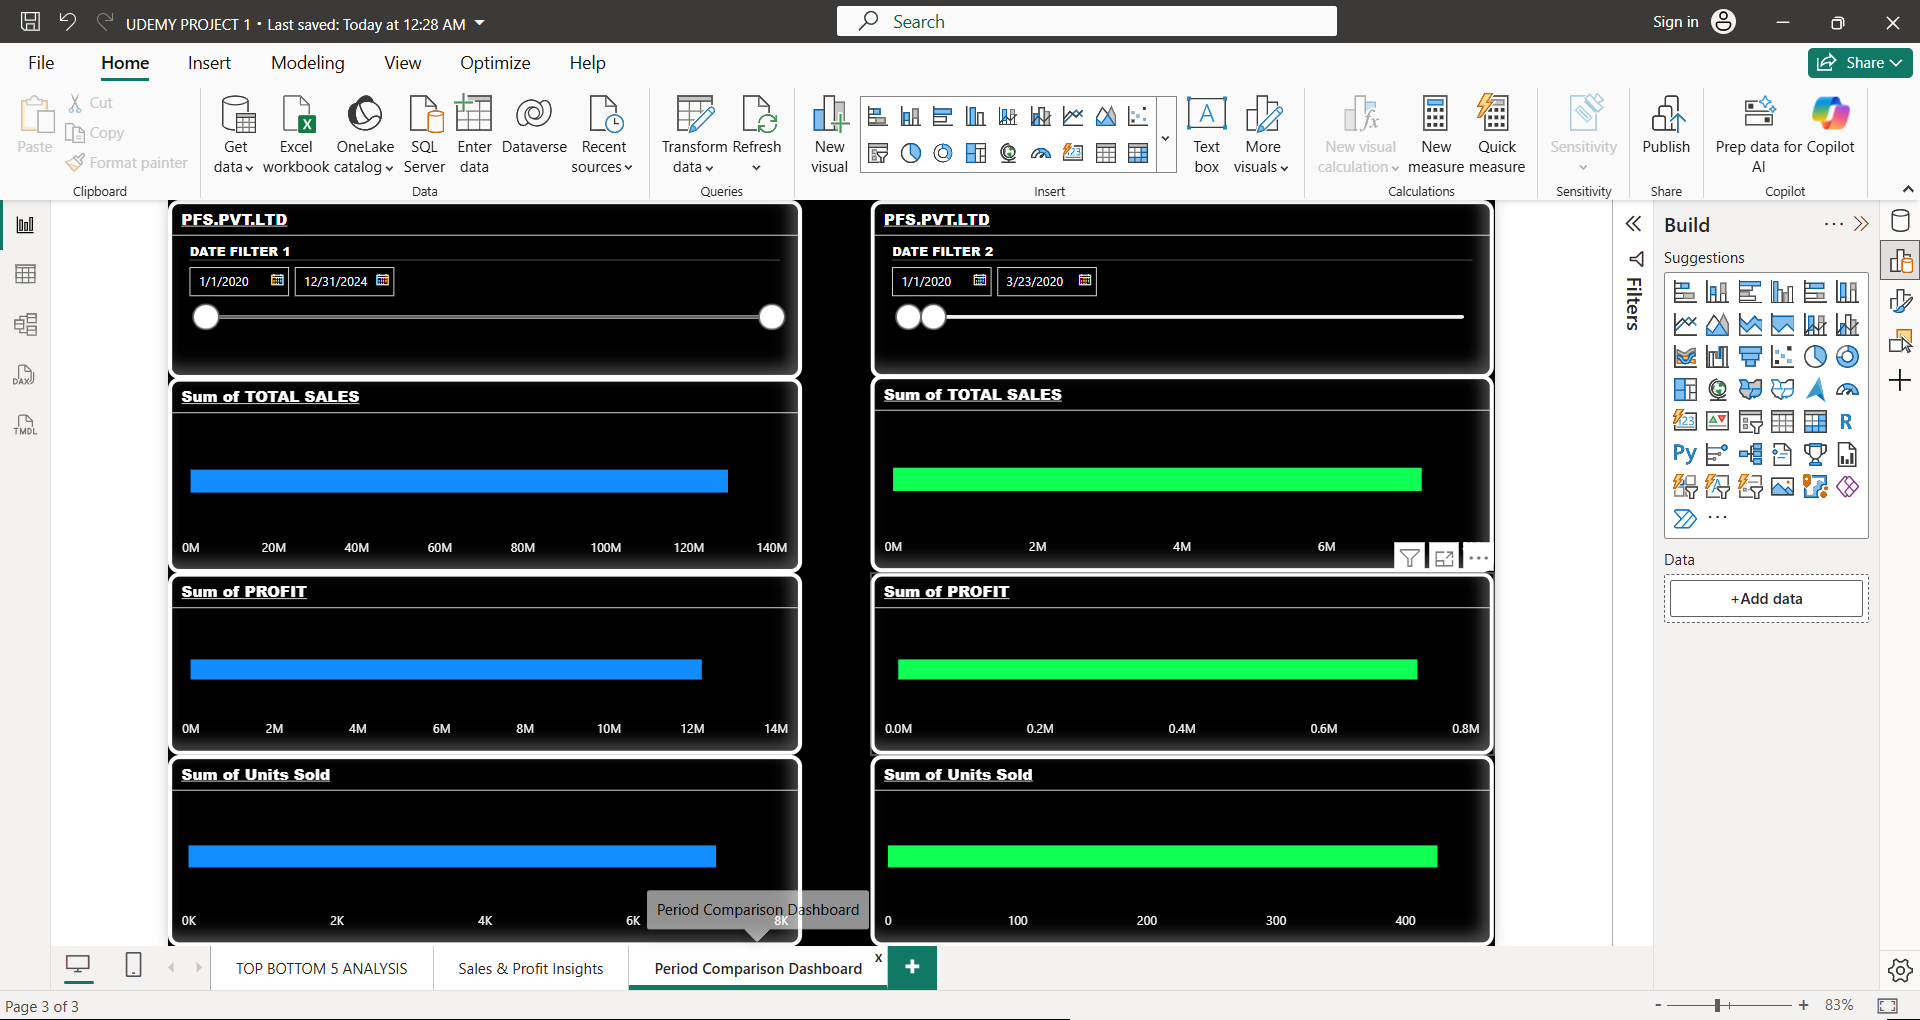

This screenshot's page, from the dashboard's own definition file:
{"tool":"powerbi","page":{"name":"Period Comparison Dashboard","canvas":[1280,720],"ordinal":2},"visuals":[{"type":"slicer","title":"PFS.PVT.LTD","fields":{"Values":["DATE TABLE 1.Date"]},"box":[0,0,611.7,172.5],"z":0},{"type":"slicer","title":"PFS.PVT.LTD","fields":{"Values":["DATE TABLE 1.Date"]},"box":[678.1,0,601.6,171.7],"z":1000},{"type":"barChart","fields":{"Y":["Sum(FACT TABLE.TOTAL SALES)"]},"box":[0,171.7,611.7,189],"z":2000},{"type":"barChart","fields":{"Y":["Sum(FACT TABLE.Units Sold)"]},"box":[678.1,535.3,601.6,184.7],"z":3000},{"type":"barChart","fields":{"Y":["Sum(FACT TABLE.PROFIT)"]},"box":[0,359.2,611.7,176],"z":4000},{"type":"barChart","fields":{"Y":["Sum(FACT TABLE.TOTAL SALES)"]},"box":[678.1,168.8,601.6,190.4],"z":5000},{"type":"barChart","fields":{"Y":["Sum(FACT TABLE.Units Sold)"]},"box":[0,535.3,611.7,184.7],"z":6000},{"type":"barChart","fields":{"Y":["Sum(FACT TABLE.PROFIT)"]},"box":[678.1,359.2,601.6,176],"z":7000}]}

Visuals, with their boxes on the page's 1280x720 design canvas (x1, y1, x2, y2). These are canvas units, not pixel positions in the 1920x1020 screenshot, which may show the page scaled, cropped or inside an application window:
"PFS.PVT.LTD" slicer: 0:0:612:172
"PFS.PVT.LTD" slicer: 678:0:1280:172
barChart - Sum(FACT TABLE.TOTAL SALES): 0:172:612:361
barChart - Sum(FACT TABLE.Units Sold): 678:535:1280:720
barChart - Sum(FACT TABLE.PROFIT): 0:359:612:535
barChart - Sum(FACT TABLE.TOTAL SALES): 678:169:1280:359
barChart - Sum(FACT TABLE.Units Sold): 0:535:612:720
barChart - Sum(FACT TABLE.PROFIT): 678:359:1280:535
